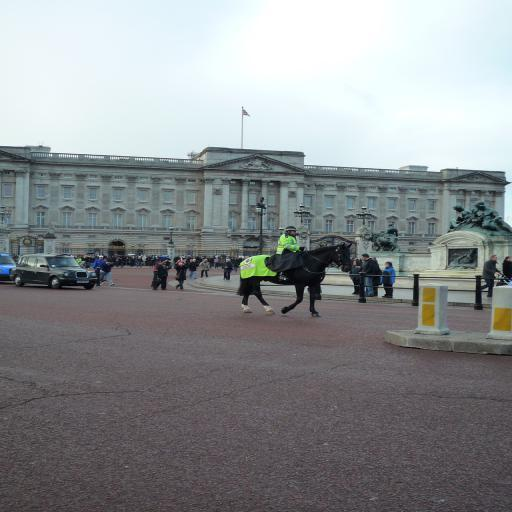horse: (238, 241, 355, 318)
